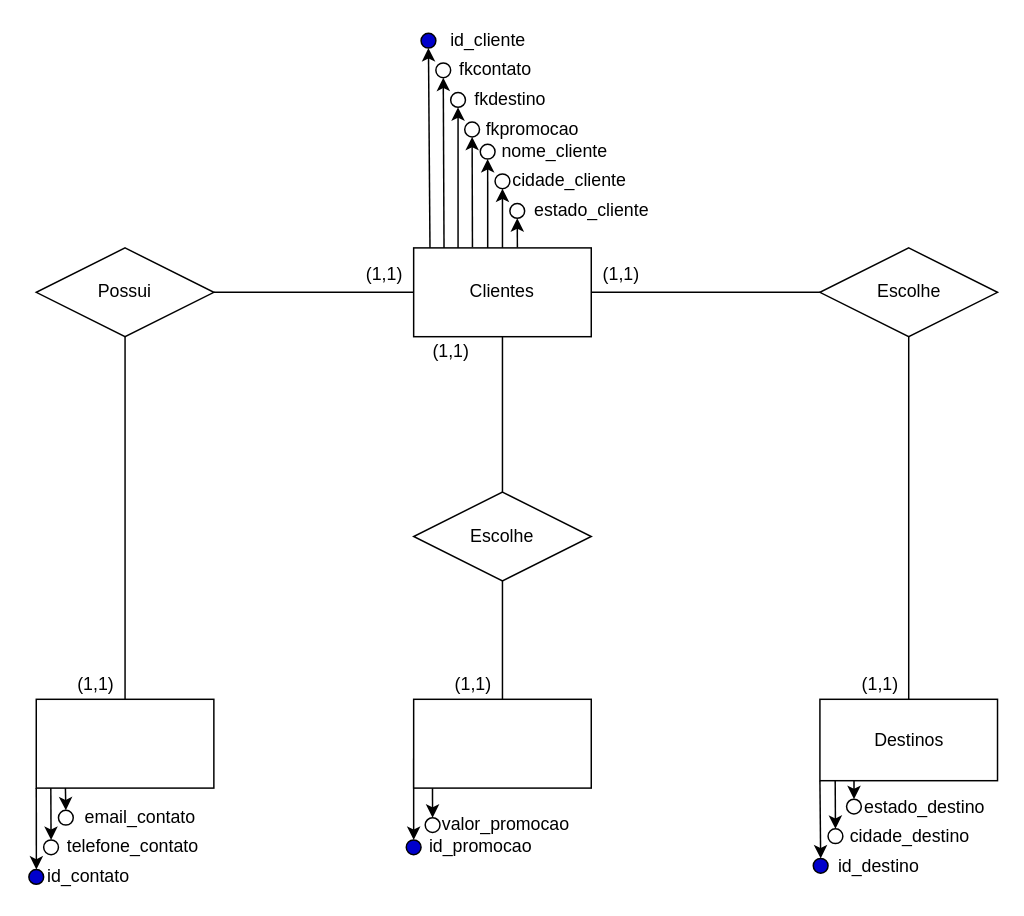
This 1024x916 diagram has some shape labels left out. The centre of each missing label's shape, as x and y in pixels:
"Contatos" belongs at (x=124, y=743).
"Promocoes" belongs at (x=501, y=743).
